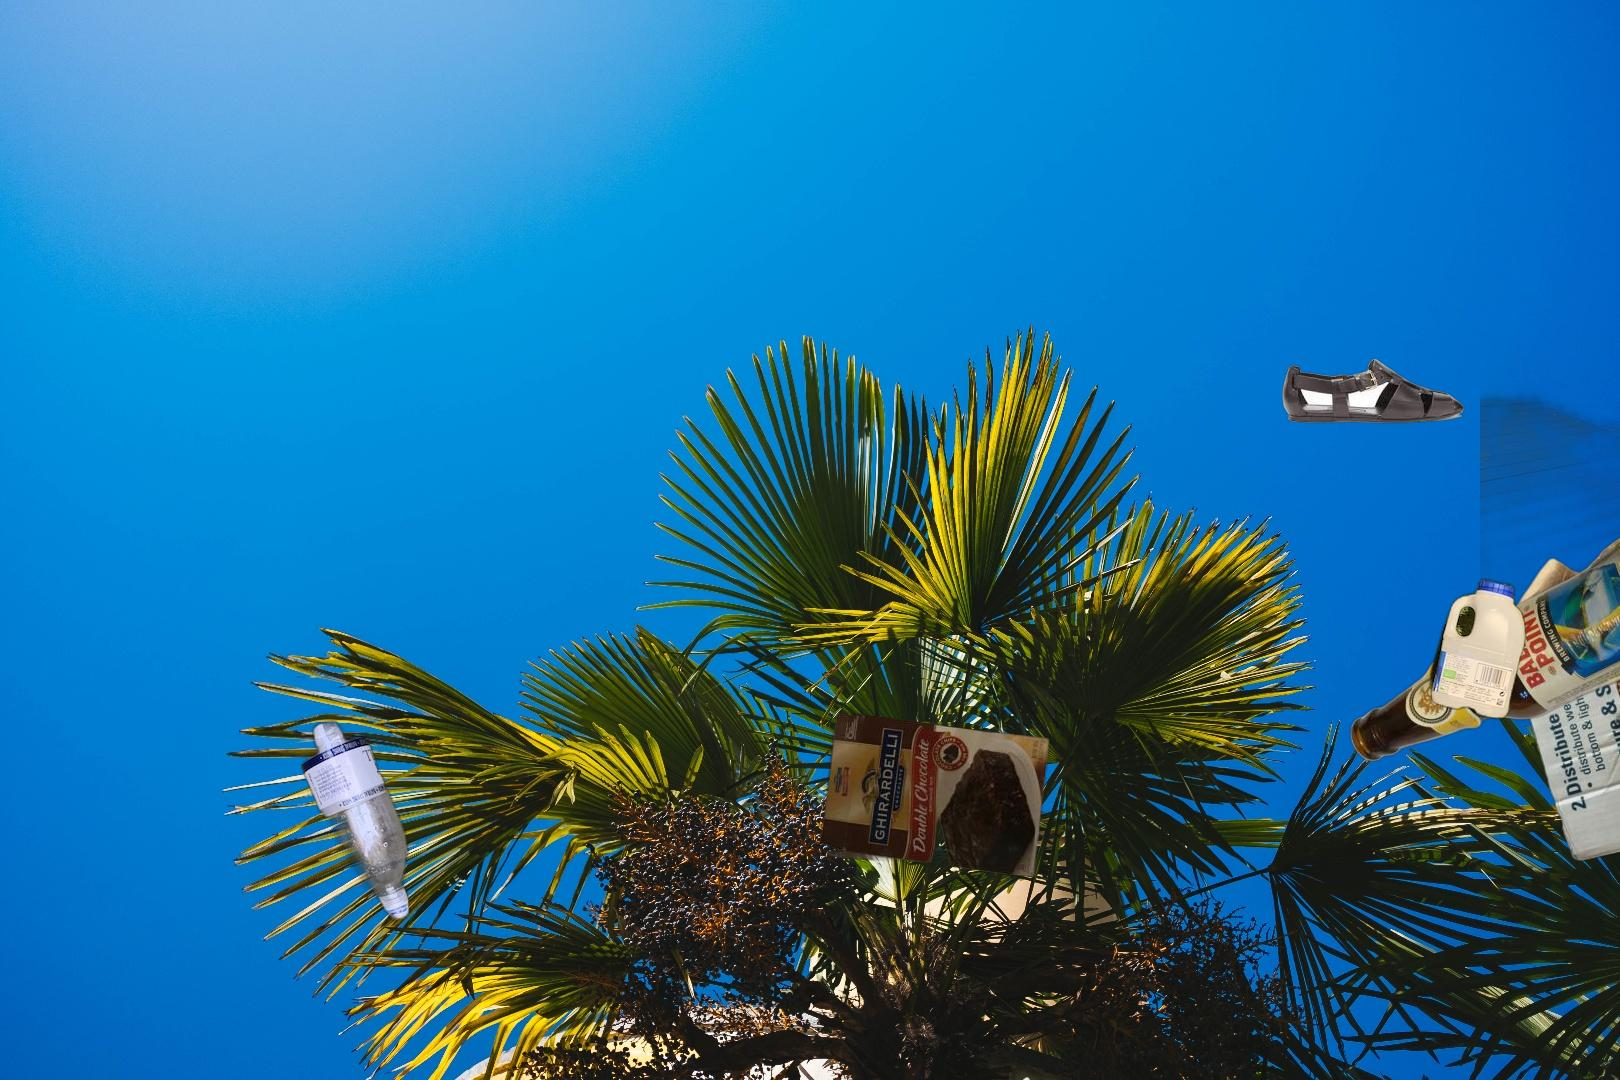glass: (1480, 325, 1620, 845), (1346, 513, 1620, 765)
paper: (815, 708, 1053, 880)
plastic-bottles: (298, 714, 442, 926), (1425, 574, 1530, 729)
shoes: (1282, 356, 1465, 425)
trashbox-cardboard: (1501, 554, 1620, 865)
